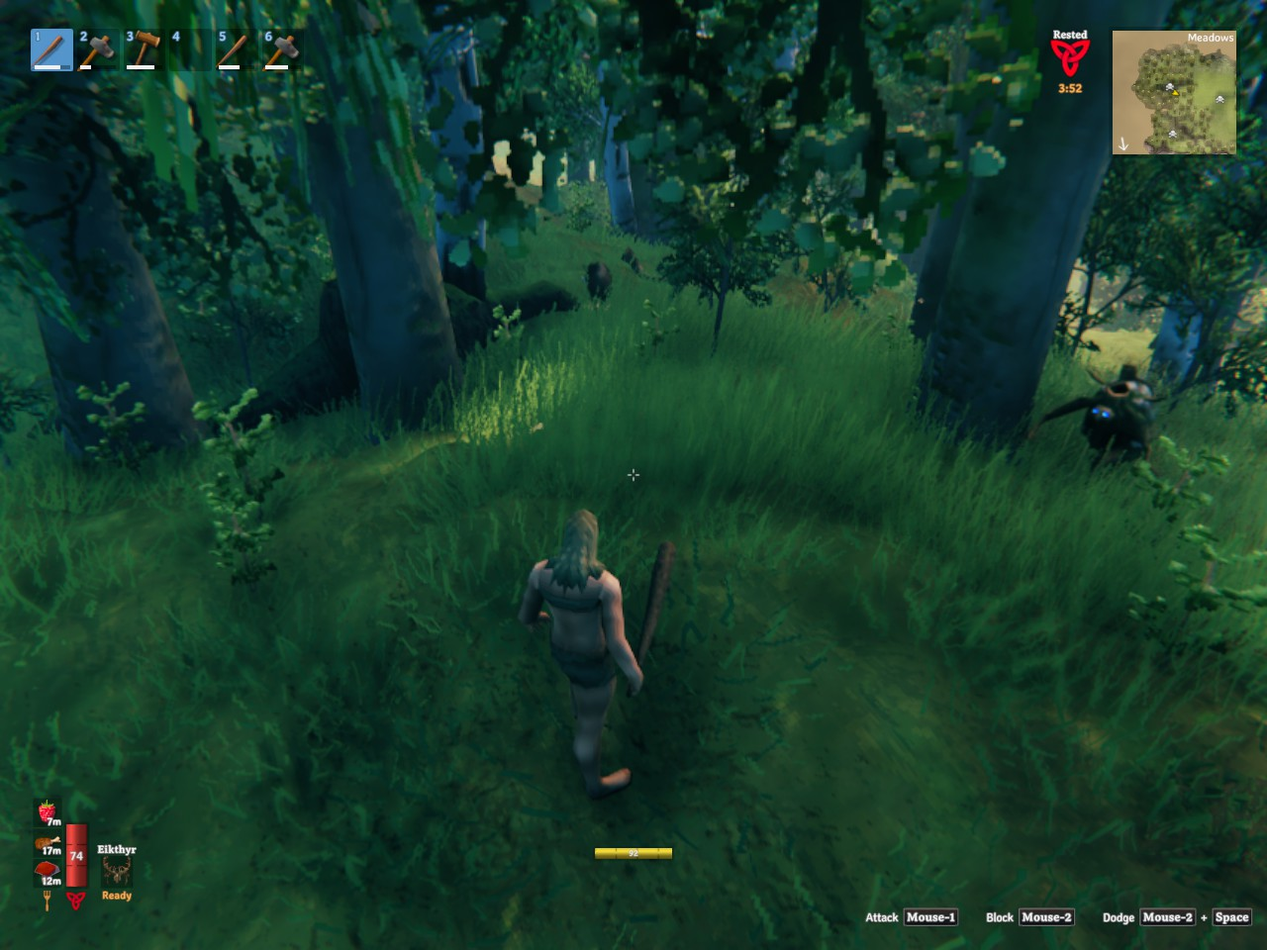Food Indicator: (36, 797, 63, 891)
Greydwarf: (1031, 364, 1157, 469)
Health Bar: (63, 820, 90, 891)
Hotbar: (25, 21, 398, 78)
Stamina Bar: (590, 842, 678, 866)
Status Indicator: (1039, 25, 1106, 101)
